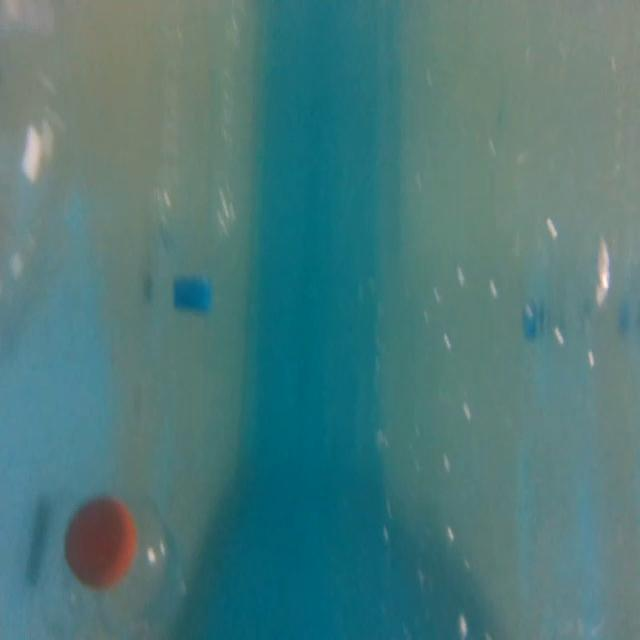plastic bottle: (143, 1, 261, 319), (57, 481, 198, 640)
